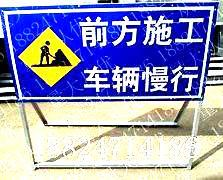sign: (4, 9, 209, 99)
